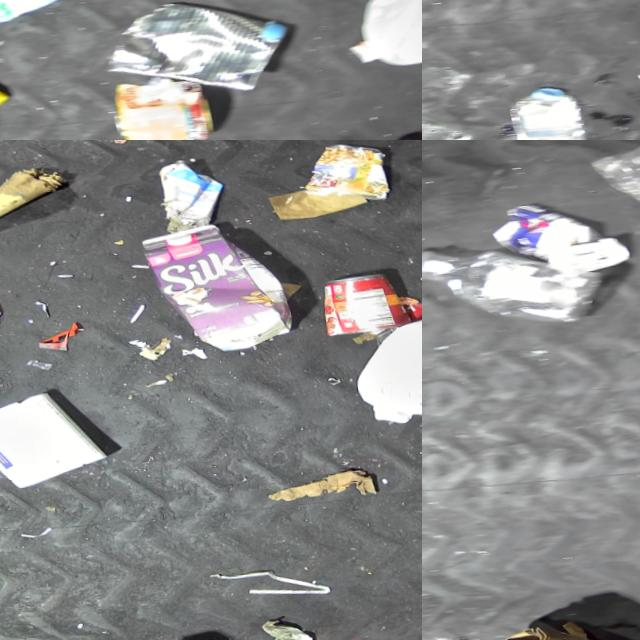can: (81, 0, 291, 107), (308, 271, 407, 338), (294, 140, 390, 208)
milk_jug: (335, 308, 422, 428), (318, 0, 422, 70)
non_white_jug: (134, 218, 295, 357)
plastic_bottle: (495, 82, 579, 140)
